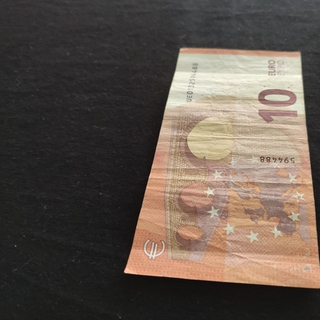10EUROBack: (124, 47, 320, 290)
